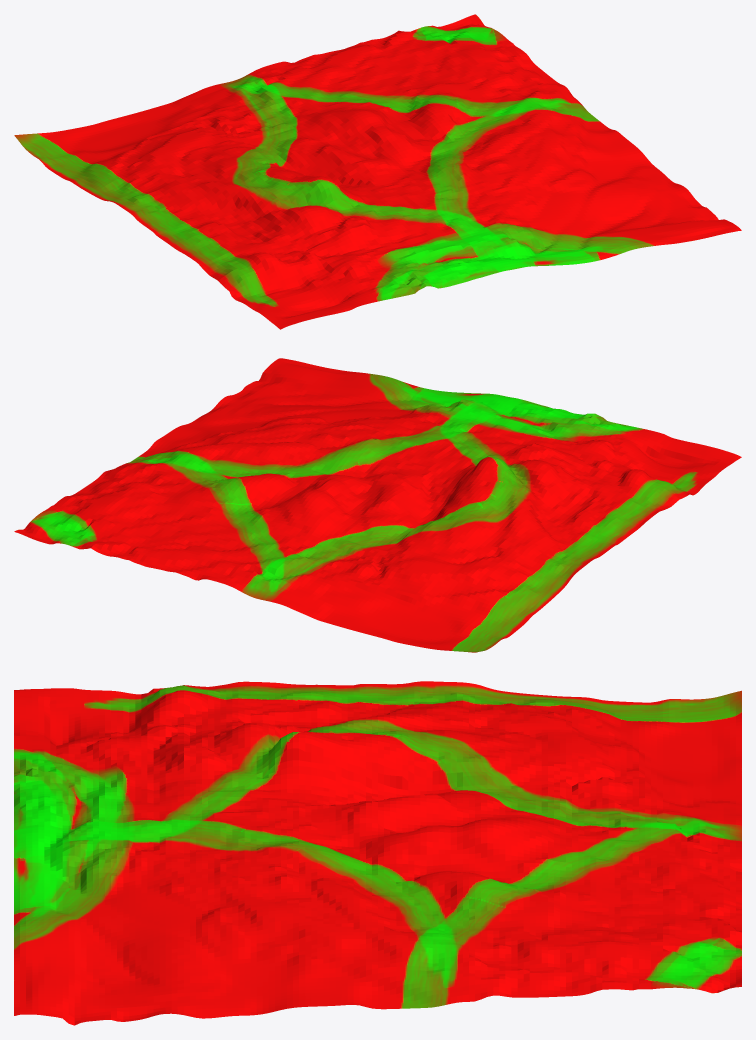
File: BIGmap.obj
3 views of the same model, one above another, from view 1: azimuth 30°, elevation 25°; view 2: azimuth 150°, elevation 25°; view 3: azimuth 270°, elevation 25° (orthographic). The views are drawn at different scales.
Parts seen in each view (by area): view 1: Plane; view 2: Plane; view 3: Plane.
Boxes of the visible parts, x1,y1,x2,y2 form: Plane: (14, 14, 741, 329); Plane: (14, 358, 741, 652); Plane: (14, 681, 741, 1025).
Size of the model in its own units: 12000 by 1476 by 12000.
Materials: 1 (1 with a texture image).
